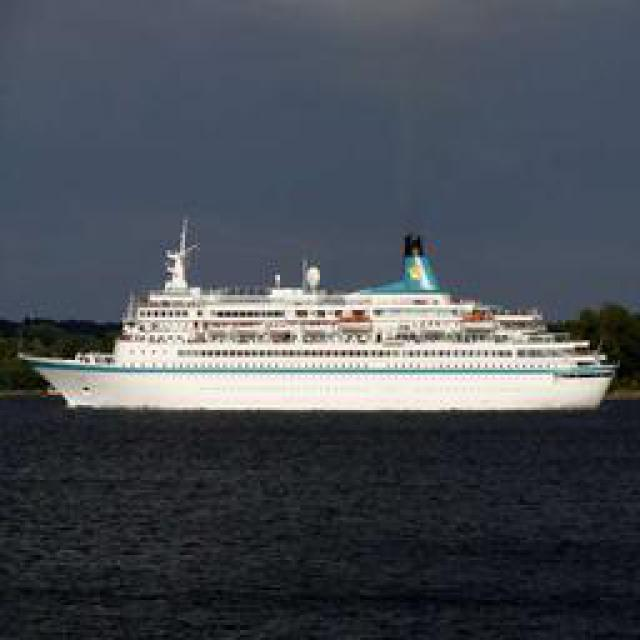Ship: (25, 220, 625, 420)
